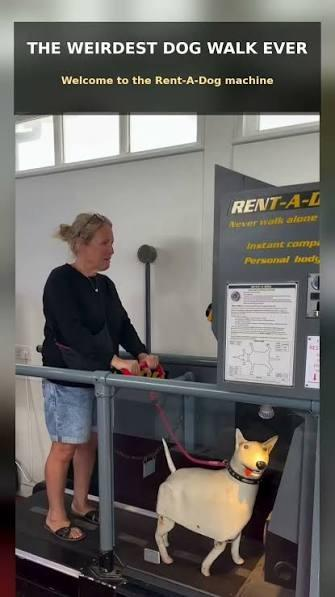non-dog: (37, 211, 161, 545), (153, 427, 280, 578)
